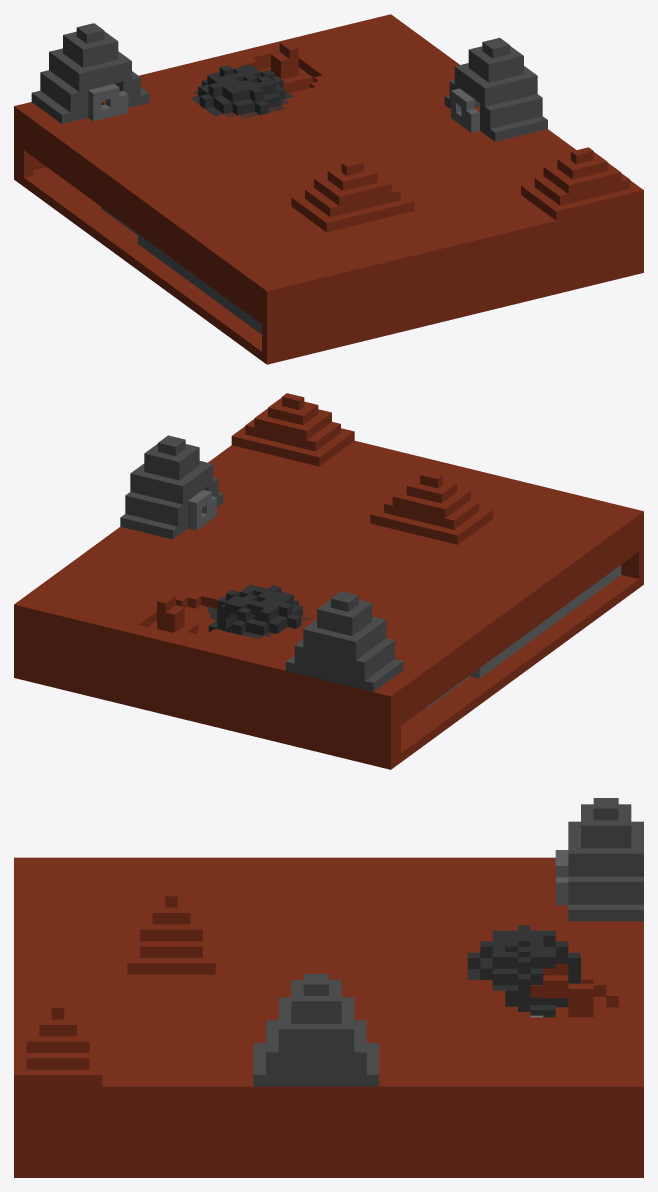
The model's file is Level2.dae.
3 renders of one model, top to bottom at view 1: azimuth 30°, elevation 25°; view 2: azimuth 150°, elevation 25°; view 3: azimuth 270°, elevation 25°, orthographic. The views are drawn at different scales.
Visible parts, largest first — view 1: Cuboid_12, Cuboid_8, Pyramid, Pyramid_0, Pyramid_6, Pyramid_5, Sphere_1, Pyramid_1, porte_destructible_0, porte_destructible; view 2: Cuboid_12, Cuboid_8, Pyramid, Pyramid_0, Pyramid_5, Pyramid_6, Sphere_1, Pyramid_1, porte_destructible; view 3: Cuboid_12, Cuboid_8, Pyramid_0, Pyramid, Pyramid_5, Pyramid_6, Sphere_1, Pyramid_1, porte_destructible_0.
Part boxes in pixels (x1=…): Cuboid_12: x1=14, y1=14, x2=643, y2=300; Cuboid_8: x1=14, y1=62, x2=643, y2=364; Pyramid: x1=31, y1=23, x2=149, y2=123; Pyramid_0: x1=444, y1=37, x2=547, y2=141; Pyramid_6: x1=291, y1=159, x2=414, y2=232; Pyramid_5: x1=521, y1=147, x2=643, y2=220; Sphere_1: x1=190, y1=64, x2=293, y2=118; Pyramid_1: x1=259, y1=40, x2=312, y2=93; porte_destructible_0: x1=88, y1=84, x2=128, y2=121; porte_destructible: x1=451, y1=88, x2=479, y2=132; Cuboid_12: x1=14, y1=441, x2=643, y2=705; Cuboid_8: x1=14, y1=520, x2=643, y2=769; Pyramid: x1=285, y1=591, x2=403, y2=691; Pyramid_0: x1=120, y1=435, x2=223, y2=539; Pyramid_5: x1=231, y1=393, x2=354, y2=466; Pyramid_6: x1=370, y1=471, x2=493, y2=544; Sphere_1: x1=208, y1=584, x2=310, y2=638; Pyramid_1: x1=148, y1=594, x2=198, y2=633; porte_destructible: x1=188, y1=490, x2=216, y2=530; Cuboid_12: x1=14, y1=857, x2=643, y2=1097; Cuboid_8: x1=14, y1=968, x2=643, y2=1177; Pyramid_0: x1=253, y1=974, x2=379, y2=1086; Pyramid: x1=568, y1=798, x2=643, y2=921; Pyramid_5: x1=14, y1=997, x2=102, y2=1086; Pyramid_6: x1=127, y1=885, x2=215, y2=974; Sphere_1: x1=467, y1=925, x2=580, y2=1017; Pyramid_1: x1=555, y1=983, x2=606, y2=1017; porte_destructible_0: x1=555, y1=850, x2=568, y2=905.
Size of the model in its own units: 43 by 16 by 50.
1 material, 1 textured.
